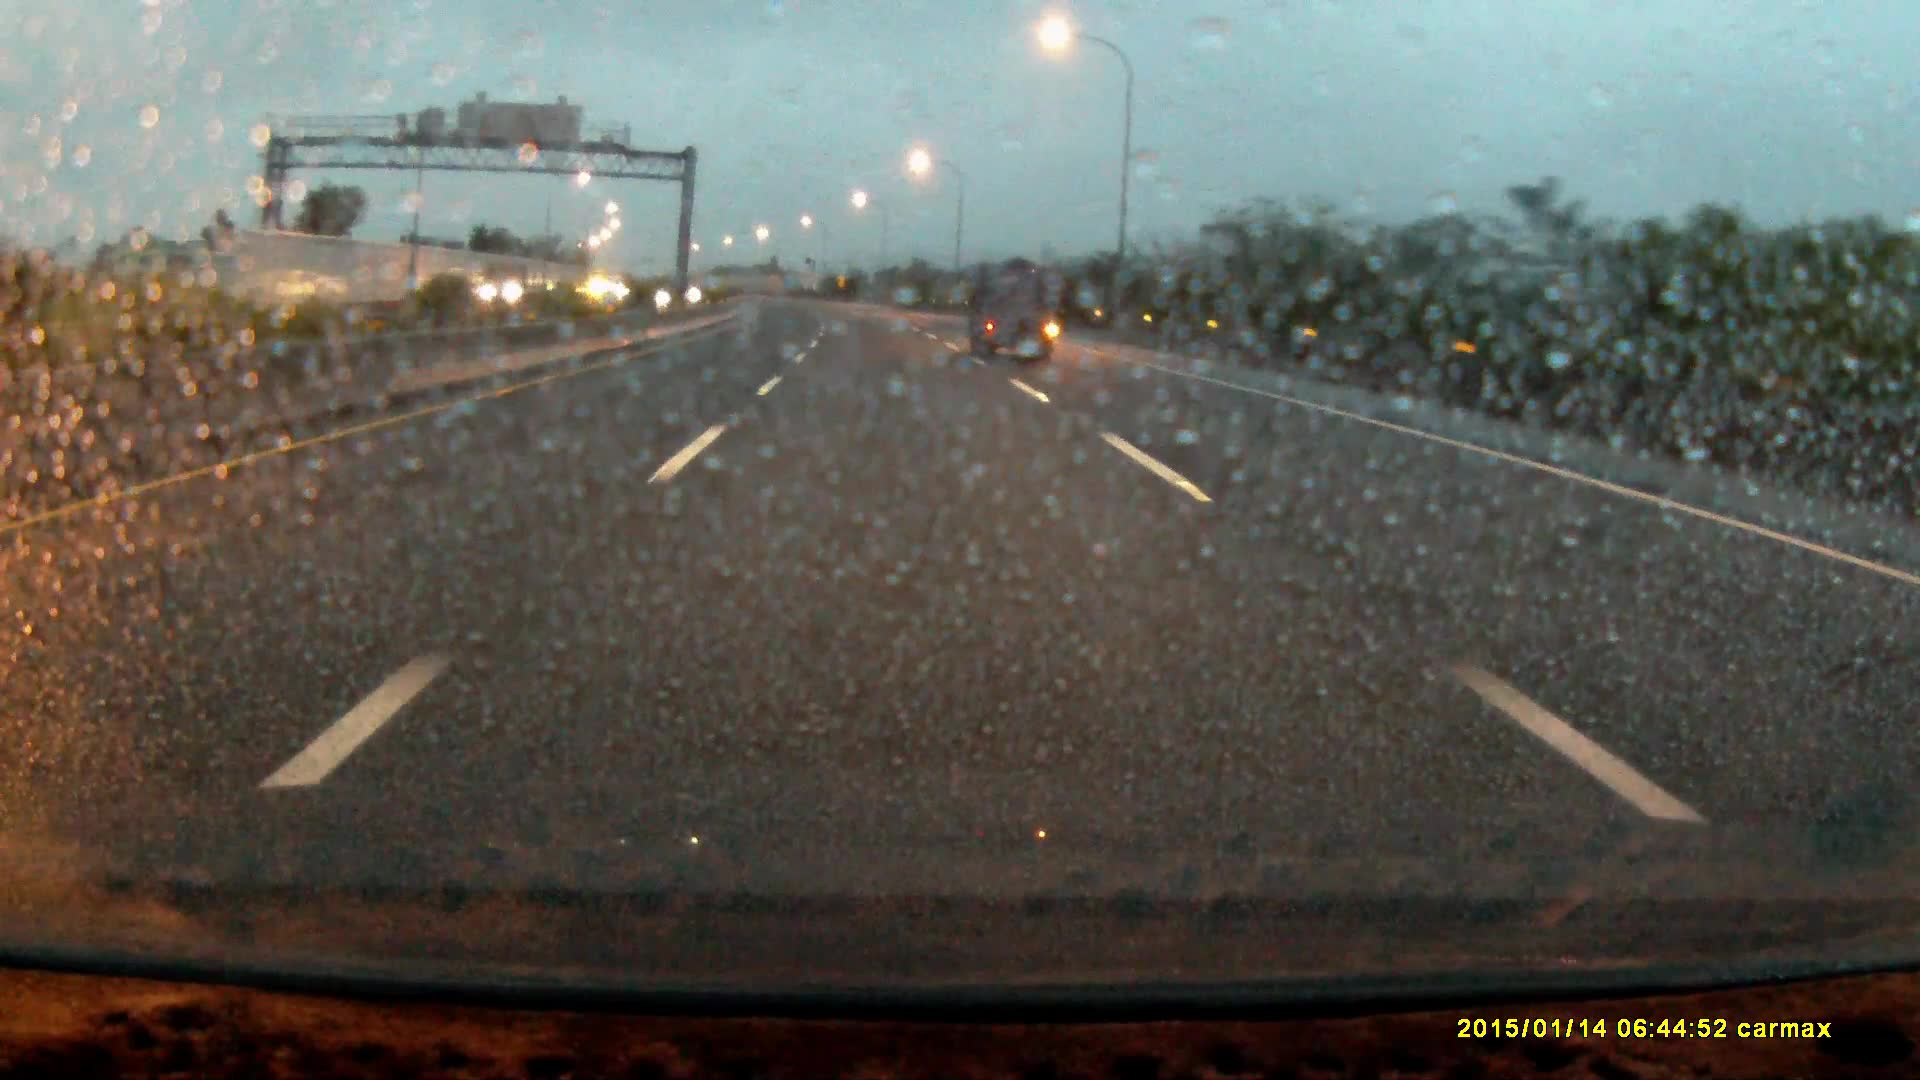vehicle: (972, 272, 1059, 364), (481, 262, 559, 314)
